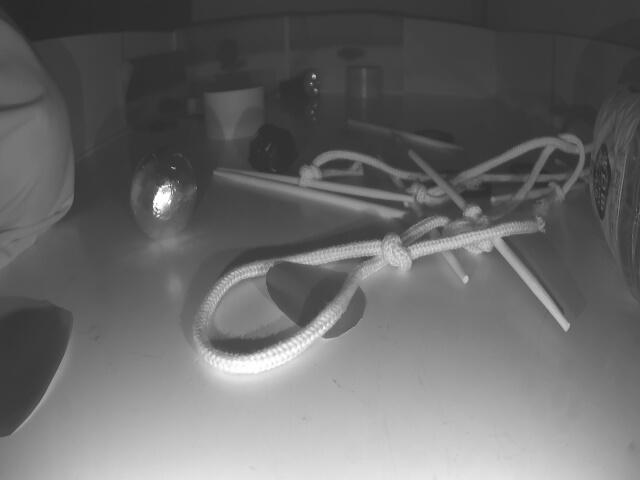Dead: (252, 122, 297, 176)
Live: (130, 153, 199, 242)
